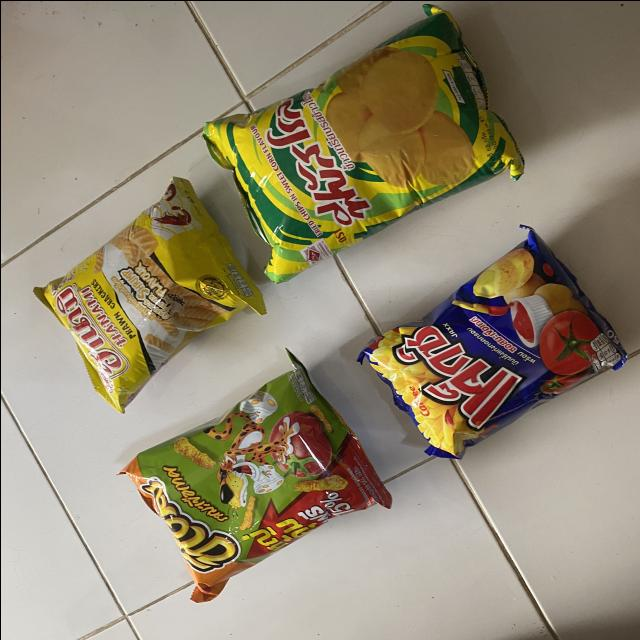plastik: (203, 4, 523, 282), (121, 351, 390, 601), (362, 226, 629, 457), (32, 176, 266, 411)
